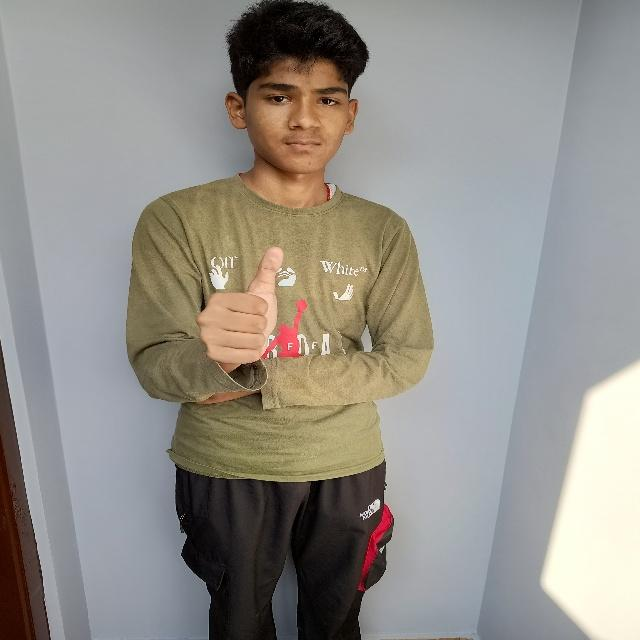Thumbs Up: (195, 239, 296, 371)
